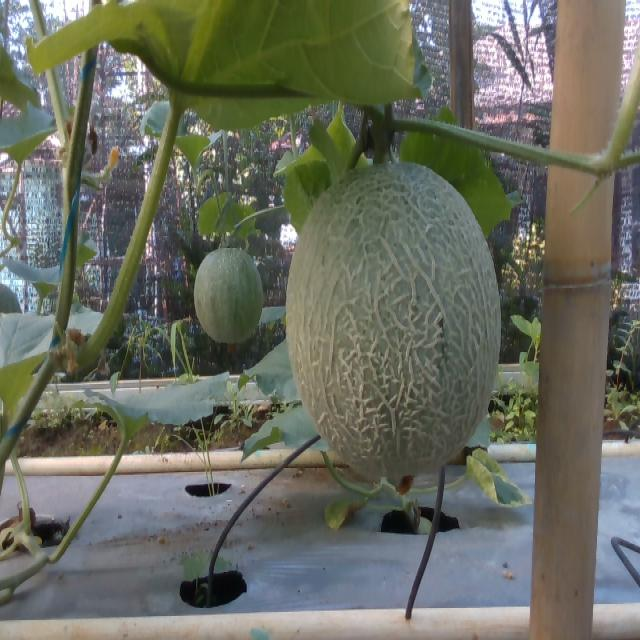melon: (287, 163, 502, 479)
